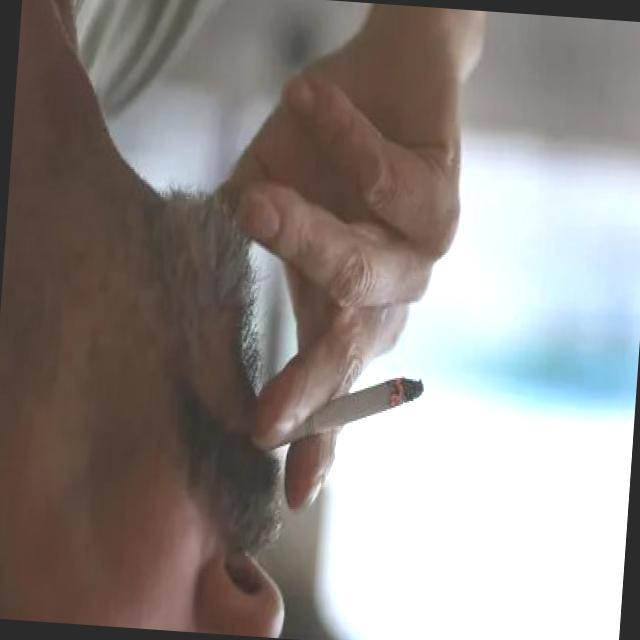cigarette: (255, 360, 428, 465)
